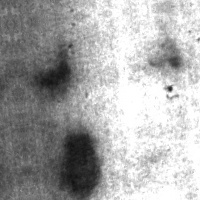patches: (54, 128, 104, 199), (32, 56, 73, 99)
